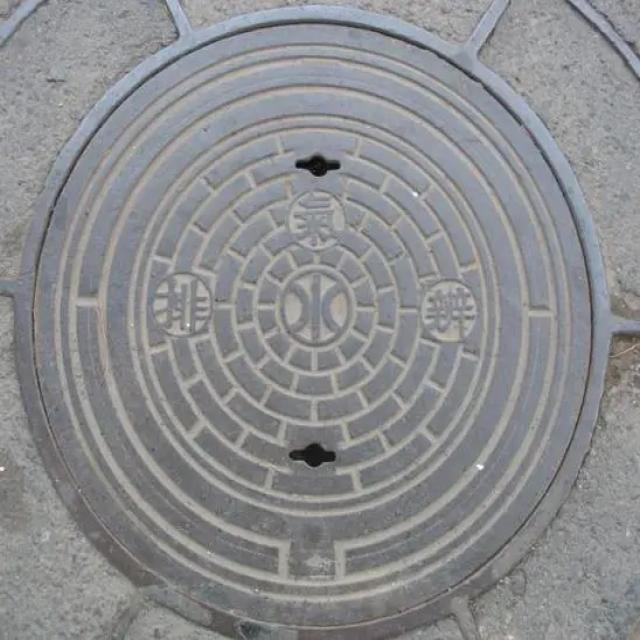manhole: (11, 0, 640, 640)
